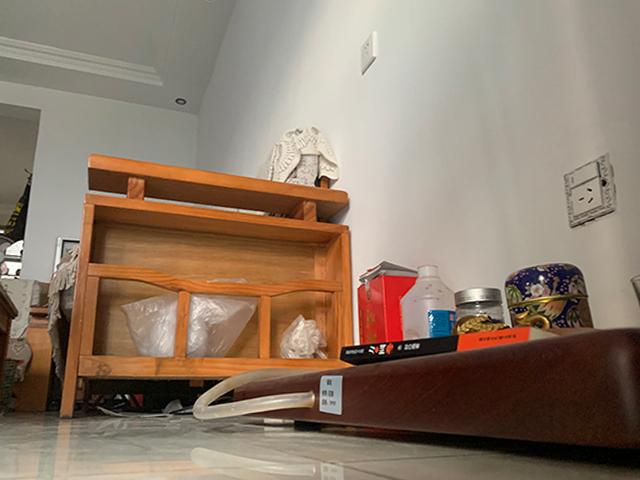sofa: (43, 153, 355, 419)
